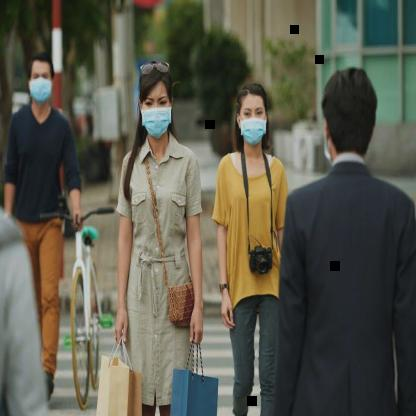mask: (134, 54, 178, 146), (234, 80, 272, 145), (24, 49, 58, 106)
